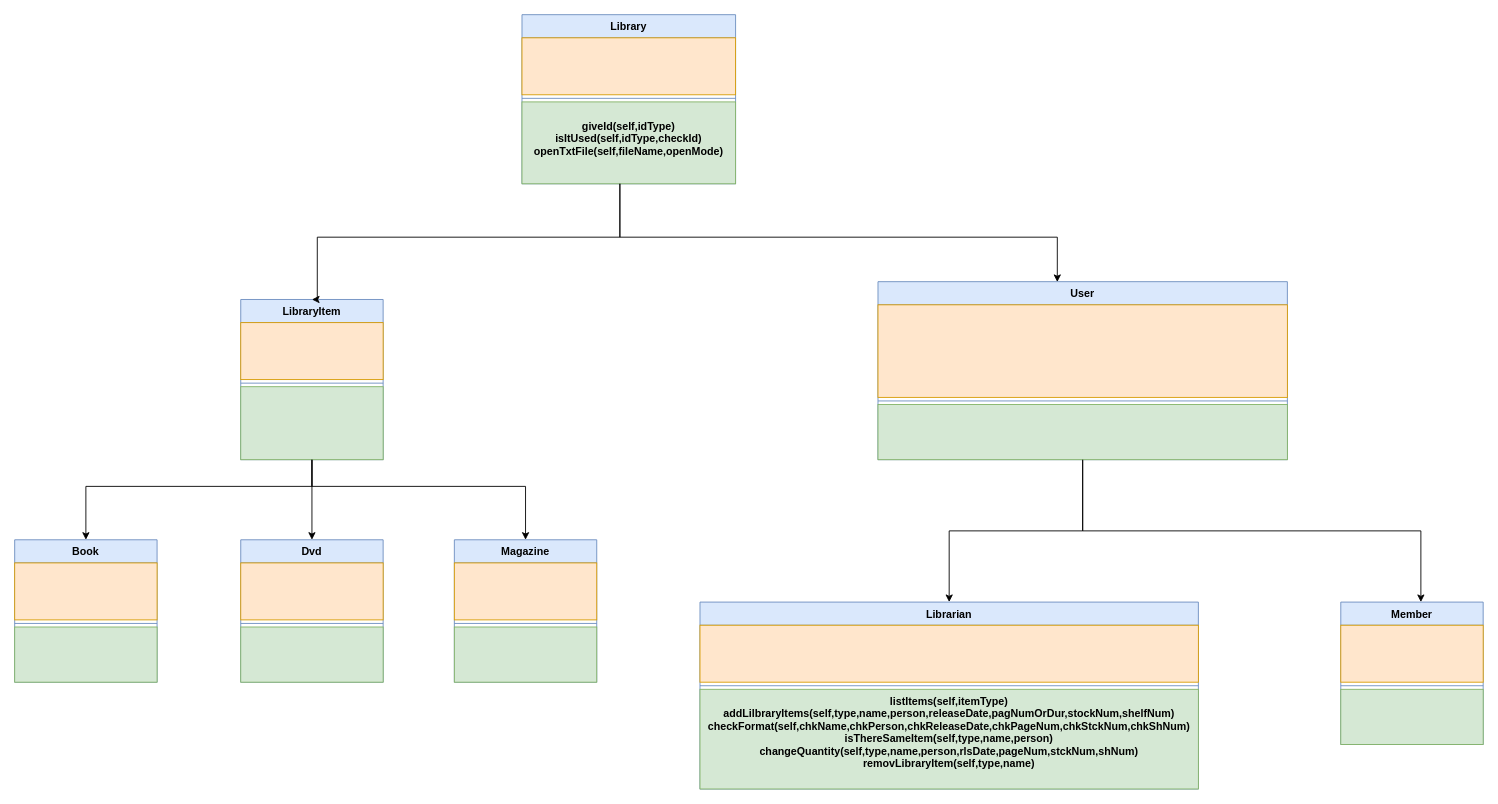
Image size: 1498x804. Some labels were removed from this diagram. Each missing label, with the centre of its shape:
"borrowItem()-abstract returnItem()-abstract" goes at point 311,423.
"Name RegistrationDate Id" goes at point 628,66.
"signIn(self,name,surname,dateOfBirth,role,eMail,librarianId,password)" goes at point 1082,432.
"stockQuantity shelfQuantity" goes at point 311,351.
"Surname dateOfBirth Role Spec Password" goes at point 1082,350.
